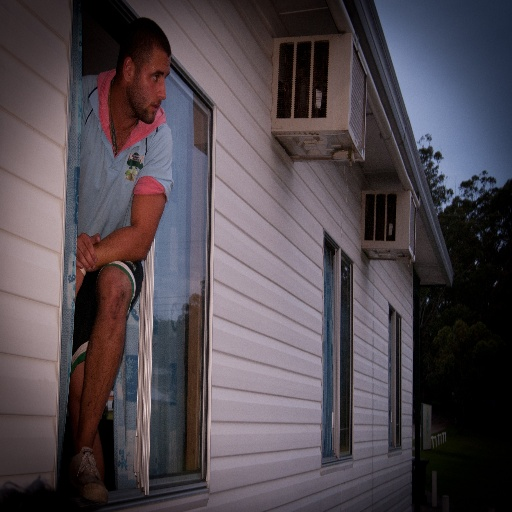hand: (76, 229, 102, 272), (75, 262, 88, 301)
